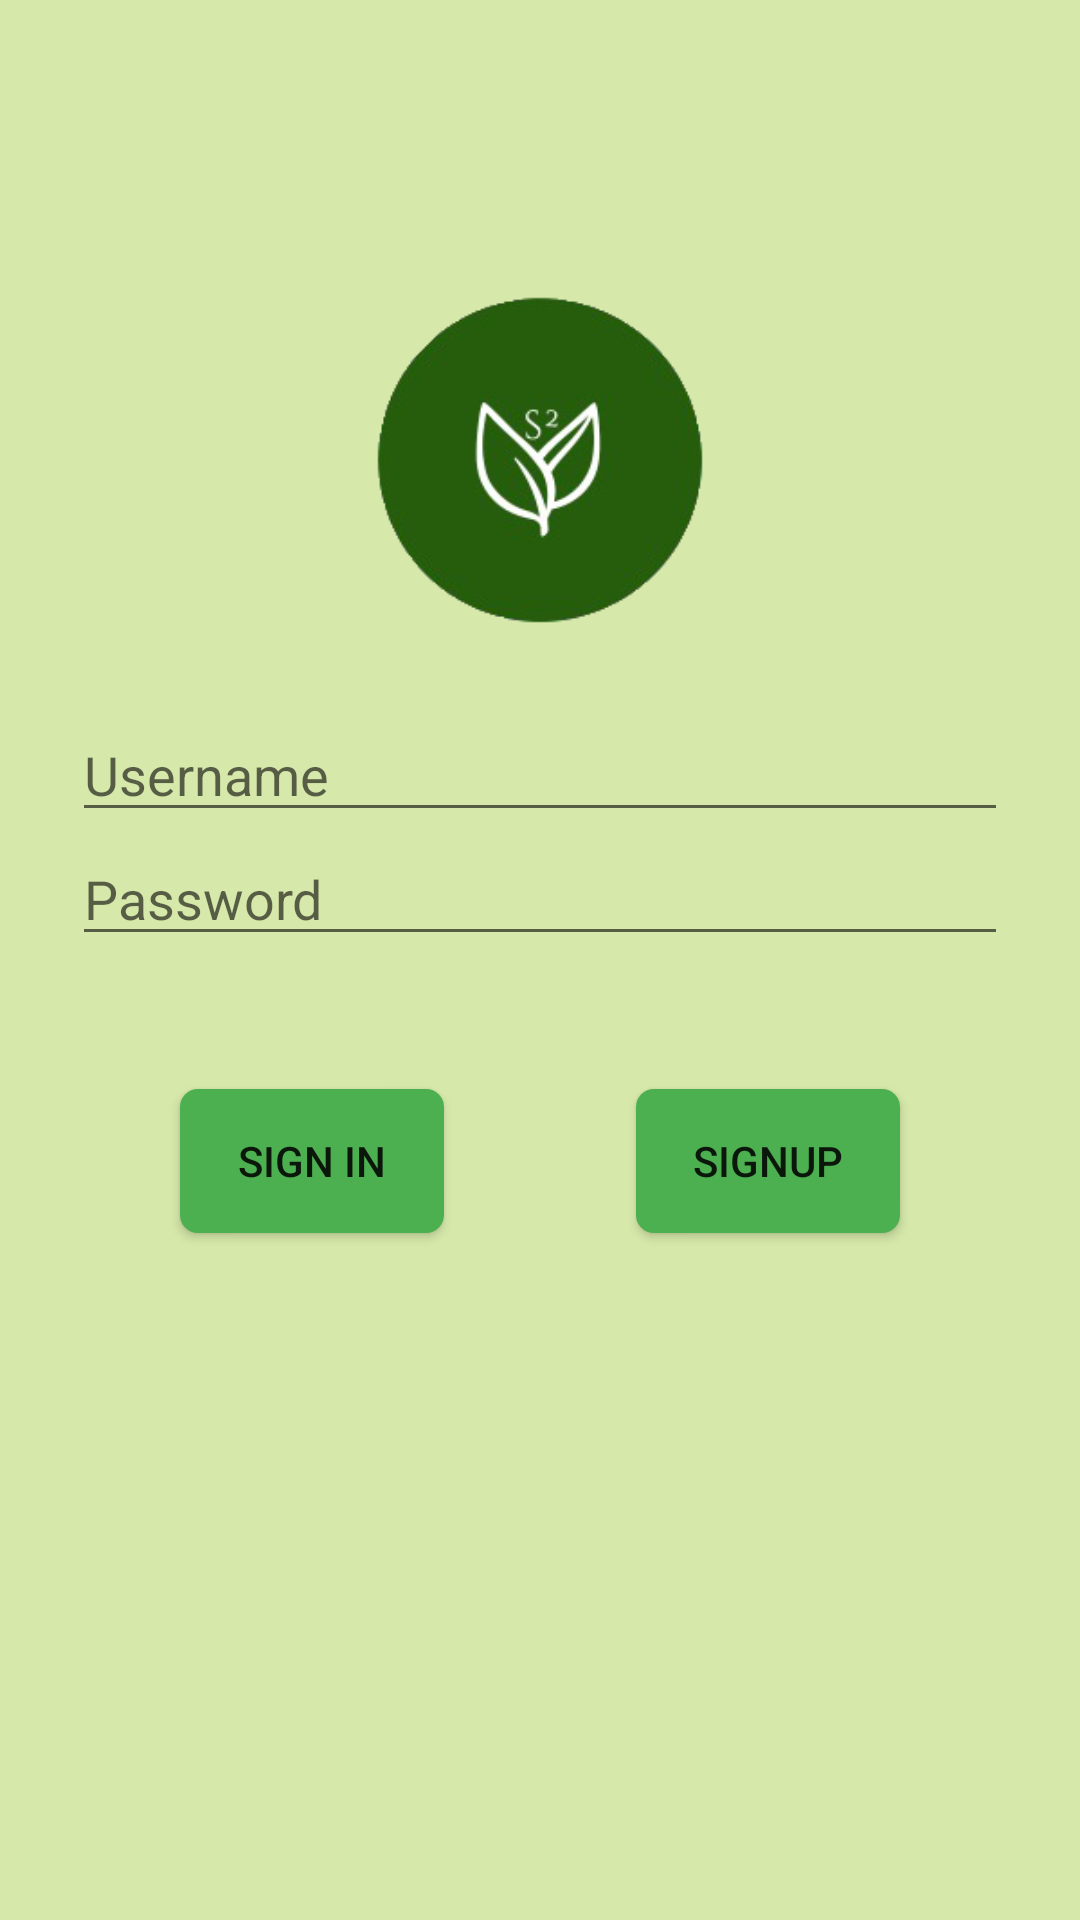

Screen size 1080×1920. Icon name, then its center in pixels as (x,y):
greenleaf: (540,460)
